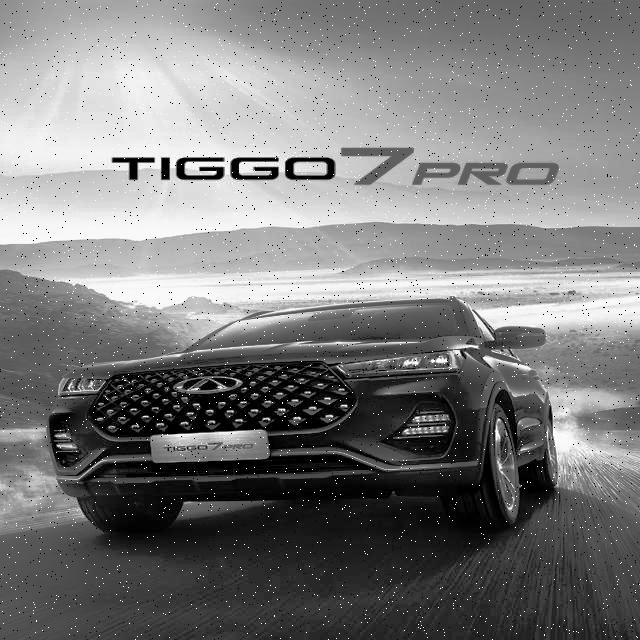Car: (41, 285, 573, 525)
